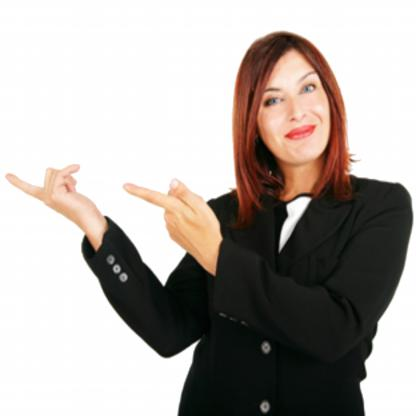Right: (115, 164, 228, 263), (6, 154, 93, 232)
